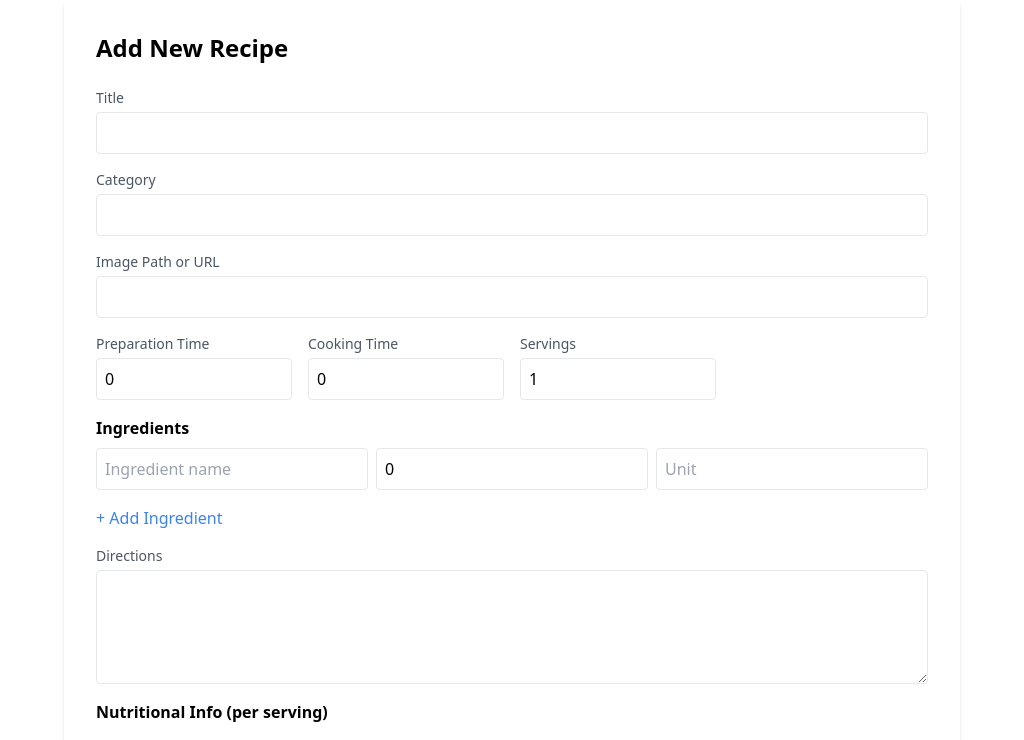
Test: AddRecipe Page › shows error if prep, cook time or servings are <= 0
The image size is (1024, 740).
In the field labelled "Title": coordinates (512, 133) [96,112,928,154], type "Test Recipe"
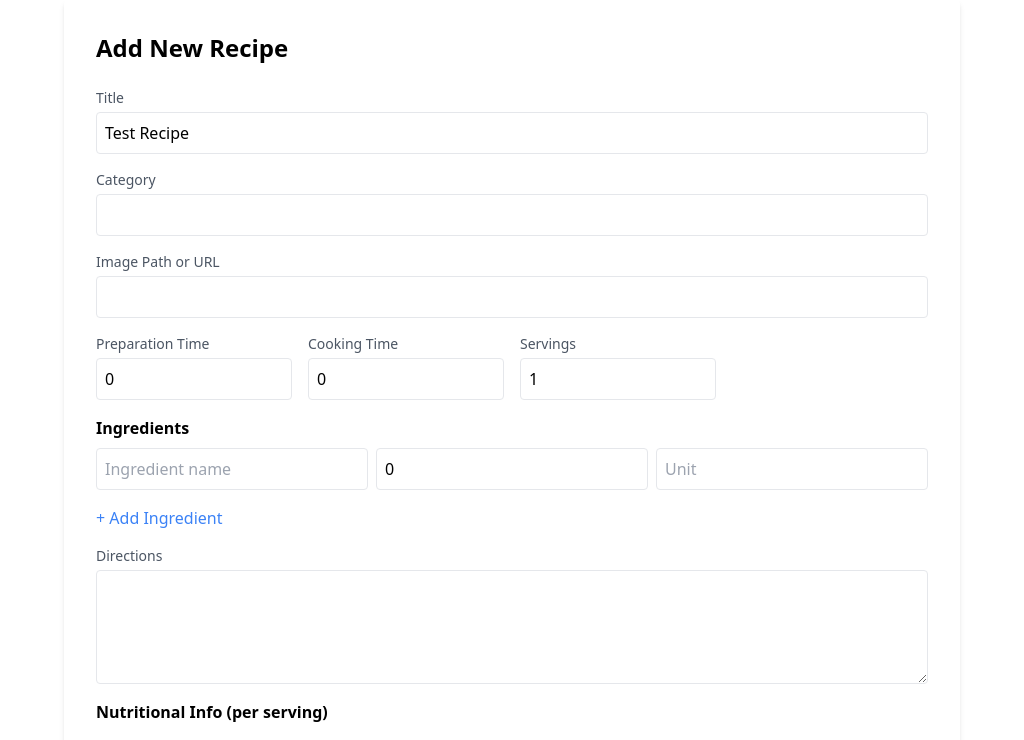
In the field labelled "Category": coordinates (512, 215) [96,194,928,236], type "Test"
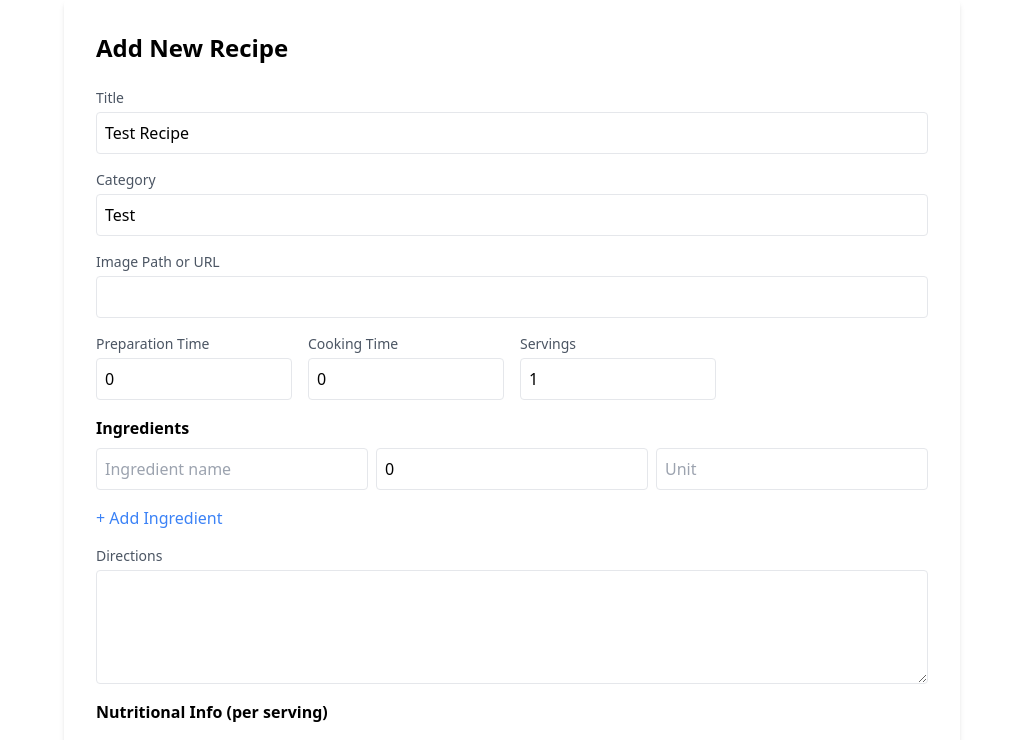
In the text box labelled "Directions": coordinates (512, 627) [96,570,928,684], type "Mix well"
(page scrolled)
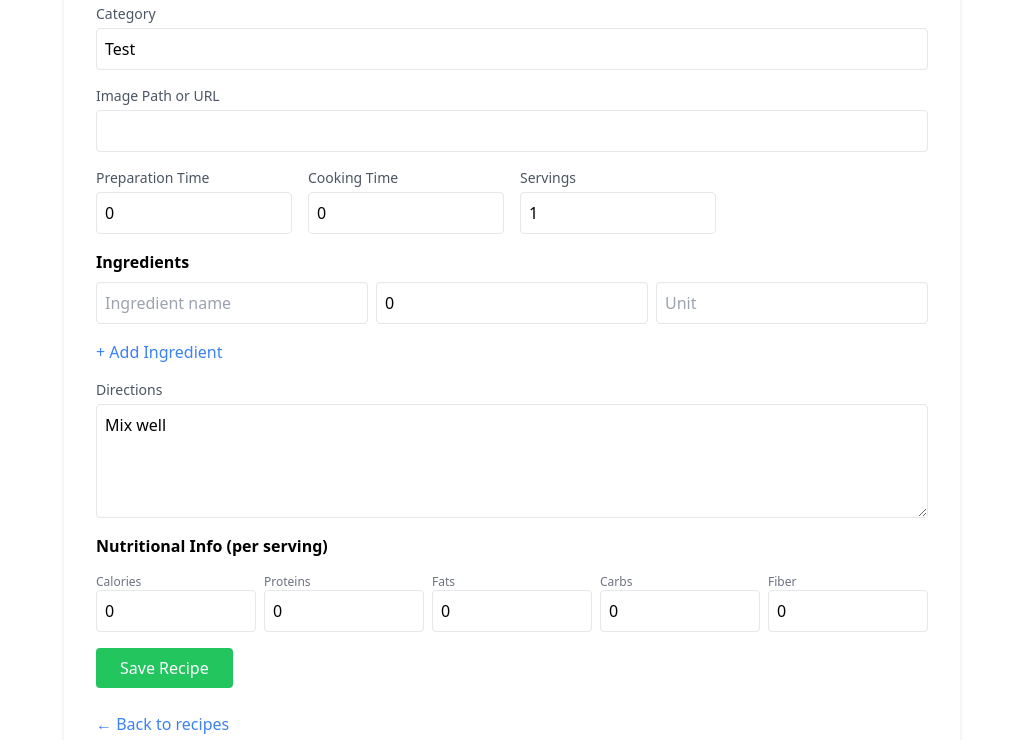
Click the button "Save Recipe": coordinates (164, 668) [96,648,233,688]
(page scrolled)
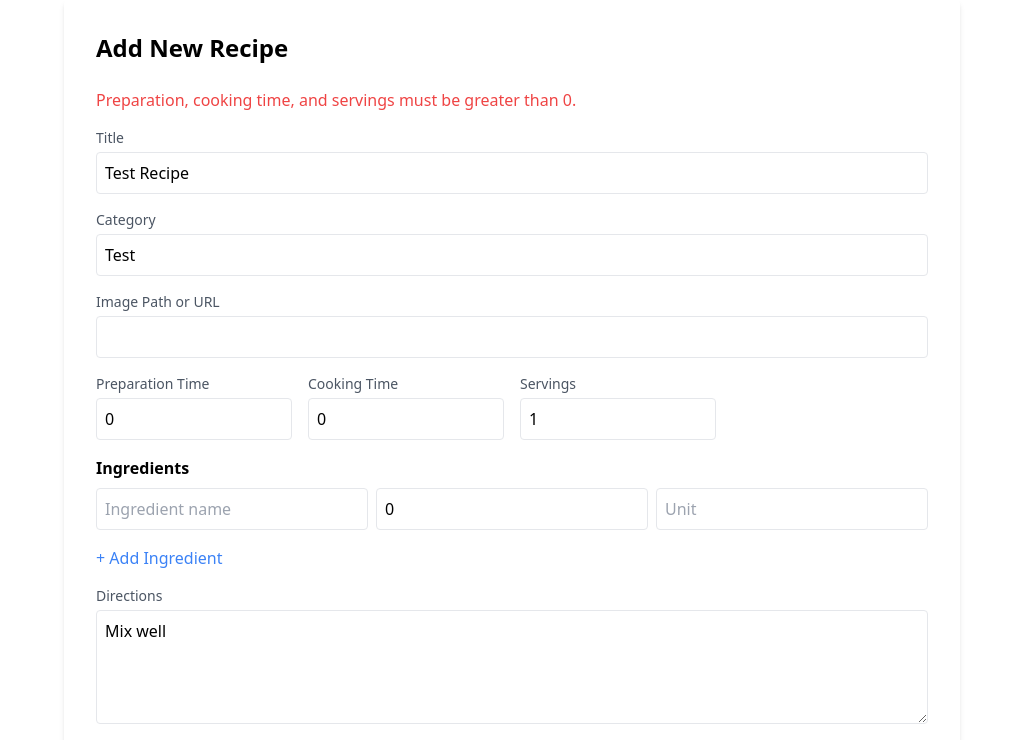
Result: the text "Preparation, cooking time, and servings must be greater than 0" is shown at [96,89,576,111]
